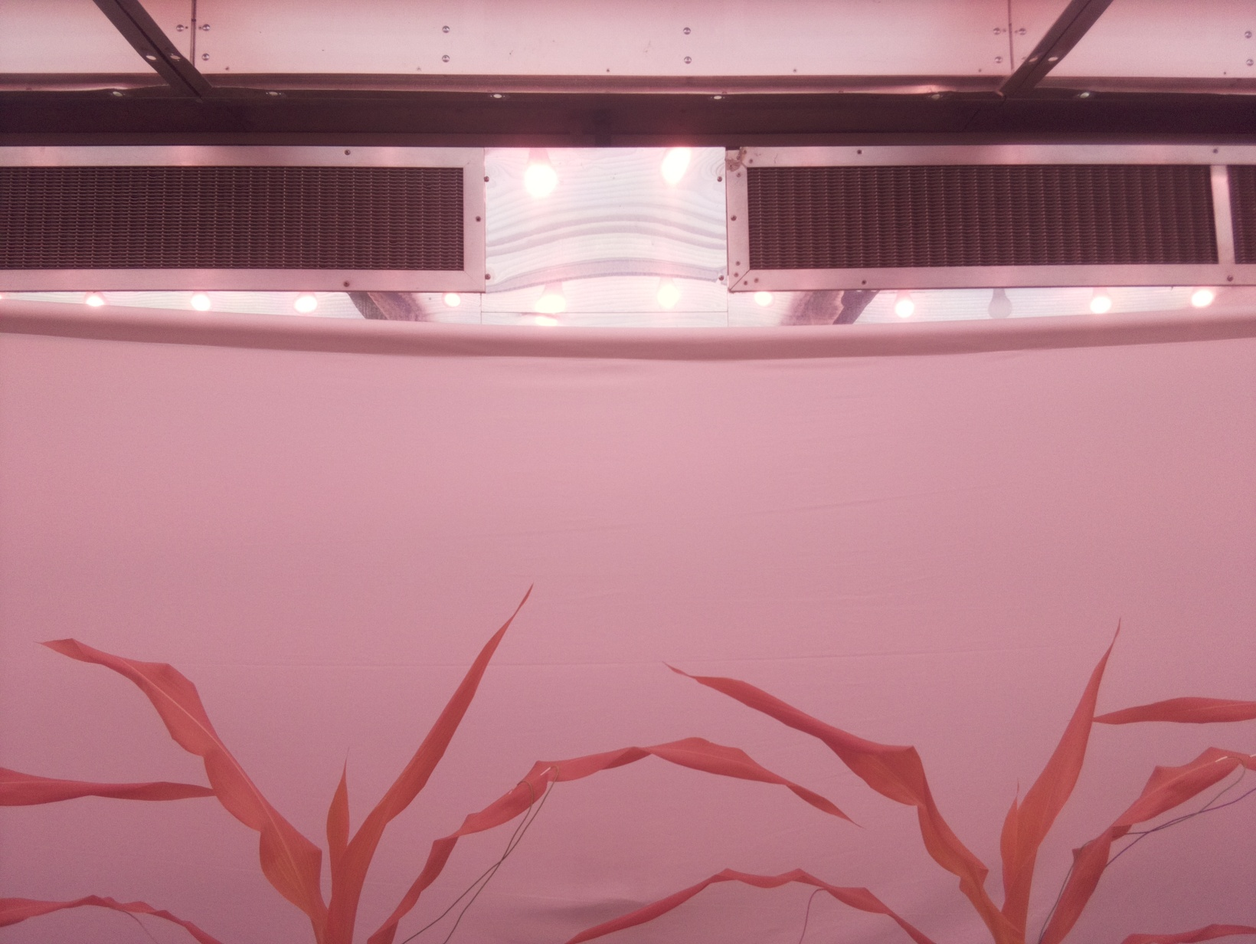maize: (0, 580, 866, 944), (564, 615, 1256, 944)
